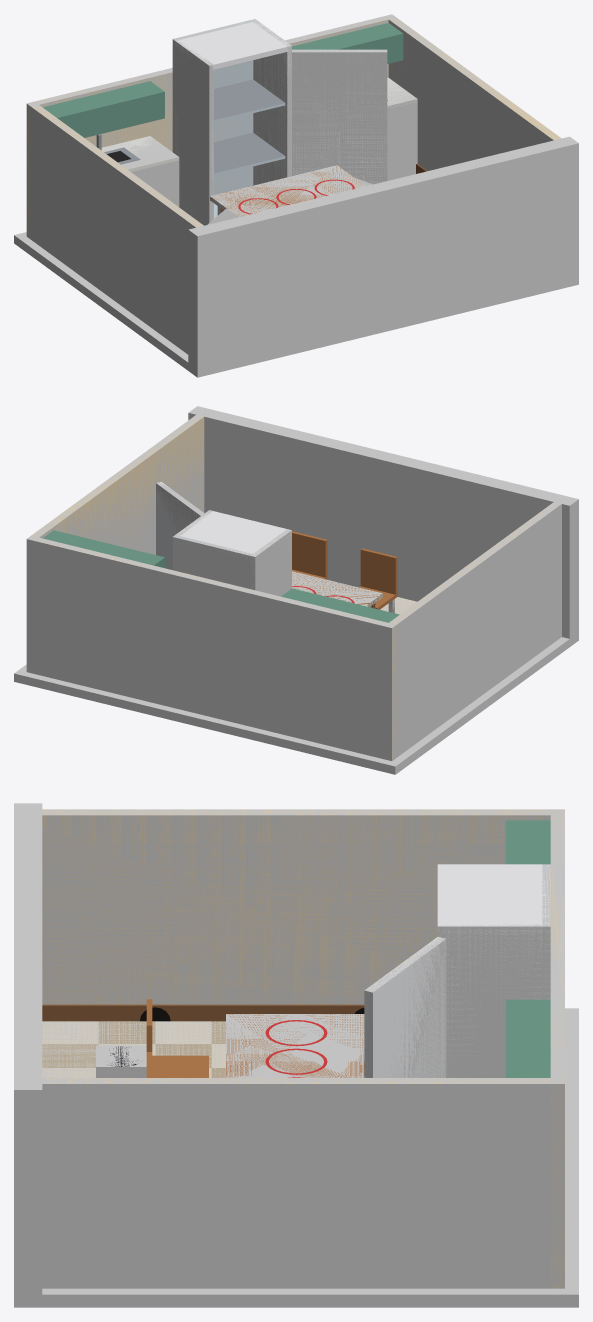
The model's file is Kitchen.fbx.
3 renders of one model, top to bottom at view 1: azimuth 30°, elevation 25°; view 2: azimuth 150°, elevation 25°; view 3: azimuth 270°, elevation 25°, orthographic. The views are drawn at different scales.
Visible parts, largest first — view 1: COL_Wall_Front, Kitchen_Visual, COL_Wall_Left, COL_Wall_Right, COL_Fridge_Door, COL_Floor, COL_Fridge_L, COL_Wall_Back, COL_Fridge_R, COL_Table_Top, COL_Counter_R, COL_Counter_L (+1 smaller); view 2: COL_Wall_Back, COL_Wall_Front, COL_Wall_Left, Kitchen_Visual, COL_Wall_Right, COL_Floor, COL_Fridge_Back, COL_Fridge_L, COL_Table_Top, COL_Fridge_Door; view 3: COL_Wall_Right, Kitchen_Visual, COL_Wall_Left, COL_Floor, COL_Wall_Front, COL_Fridge_R, COL_Table_Top, COL_Wall_Back, COL_Fridge_Door, COL_Bowl, COL_Fridge_Back.
Part boxes in pixels (x1=…): COL_Wall_Front: x1=188, y1=136, x2=578, y2=369; Kitchen_Visual: x1=26, y1=15, x2=560, y2=238; COL_Wall_Left: x1=31, y1=105, x2=213, y2=366; COL_Wall_Right: x1=388, y1=17, x2=570, y2=279; COL_Fridge_Door: x1=292, y1=49, x2=387, y2=184; COL_Floor: x1=14, y1=232, x2=578, y2=377; COL_Fridge_L: x1=172, y1=39, x2=213, y2=225; COL_Wall_Back: x1=26, y1=14, x2=396, y2=239; COL_Fridge_R: x1=251, y1=19, x2=291, y2=185; COL_Table_Top: x1=210, y1=165, x2=365, y2=217; COL_Counter_R: x1=387, y1=79, x2=417, y2=180; COL_Counter_L: x1=101, y1=136, x2=179, y2=206; COL_Wall_Back: x1=26, y1=535, x2=396, y2=760; COL_Wall_Front: x1=188, y1=406, x2=578, y2=638; COL_Wall_Left: x1=389, y1=495, x2=564, y2=757; Kitchen_Visual: x1=29, y1=415, x2=557, y2=760; COL_Wall_Right: x1=31, y1=408, x2=212, y2=554; COL_Floor: x1=14, y1=599, x2=578, y2=774; COL_Fridge_Back: x1=172, y1=535, x2=257, y2=590; COL_Fridge_L: x1=250, y1=529, x2=291, y2=596; COL_Table_Top: x1=292, y1=571, x2=382, y2=606; COL_Fridge_Door: x1=156, y1=482, x2=204, y2=533; COL_Wall_Right: x1=14, y1=1078, x2=550, y2=1288; Kitchen_Visual: x1=42, y1=809, x2=564, y2=1288; COL_Wall_Left: x1=14, y1=809, x2=550, y2=1004; COL_Floor: x1=14, y1=1008, x2=578, y2=1307; COL_Wall_Front: x1=14, y1=803, x2=42, y2=1294; COL_Fridge_R: x1=437, y1=924, x2=550, y2=1077; COL_Table_Top: x1=226, y1=1014, x2=364, y2=1077; COL_Wall_Back: x1=550, y1=809, x2=564, y2=1288; COL_Fridge_Door: x1=364, y1=937, x2=446, y2=1077; COL_Bowl: x1=96, y1=1045, x2=146, y2=1077; COL_Fridge_Back: x1=542, y1=864, x2=550, y2=999.
Size of the model in its own units: 24 by 10.5 by 20.
